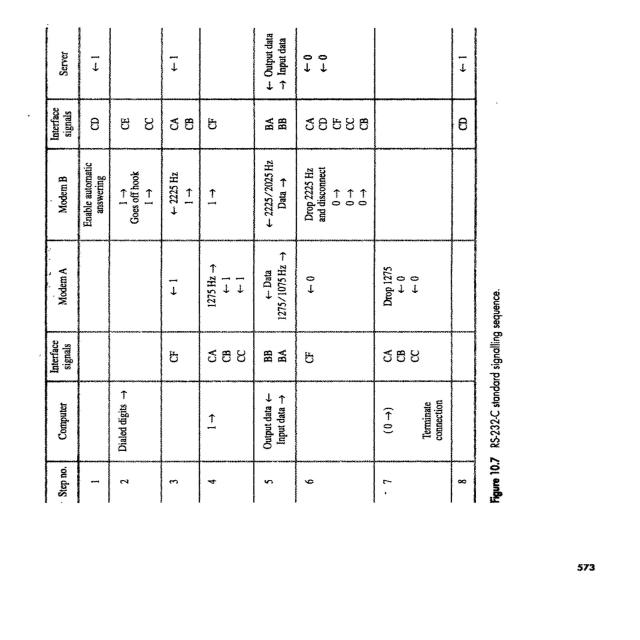diagram: (26, 4, 640, 514)
